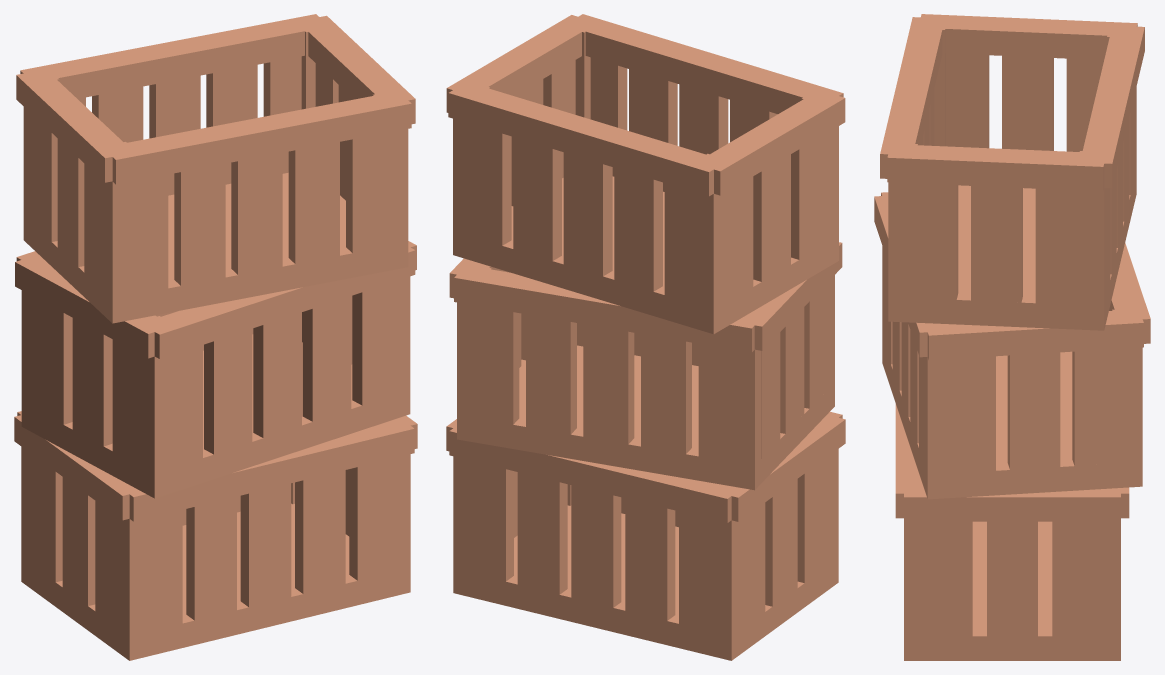
File: allotments-and-community-garden-plastic-crate-stack-7955a6e9__35175.glb
The picture shows the model from 3 angles, left to right: view 1: azimuth 30°, elevation 25°; view 2: azimuth 150°, elevation 25°; view 3: azimuth 270°, elevation 25°; orthographic projection.
Visible parts, largest first — view 1: plastic-crate-stack-terracotta; view 2: plastic-crate-stack-terracotta; view 3: plastic-crate-stack-terracotta.
Boxes of the visible parts, x1=… form: plastic-crate-stack-terracotta: x1=14, y1=14, x2=417, y2=660; plastic-crate-stack-terracotta: x1=446, y1=14, x2=845, y2=660; plastic-crate-stack-terracotta: x1=874, y1=14, x2=1150, y2=660.
Bounding box in the file's own units: 0.6797 × 1.02 × 0.5095.
